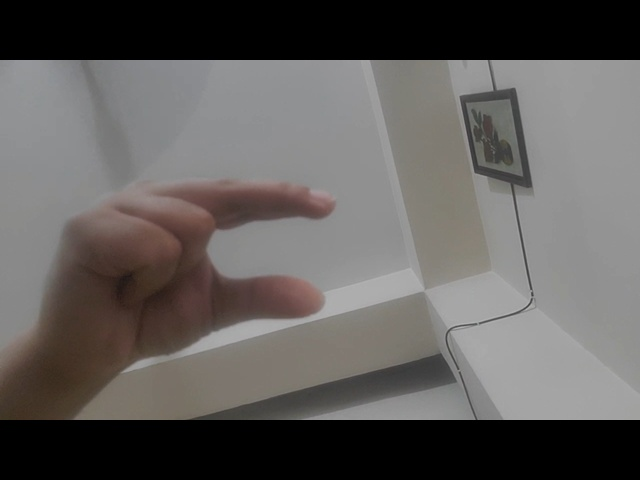No: (19, 158, 343, 375)
